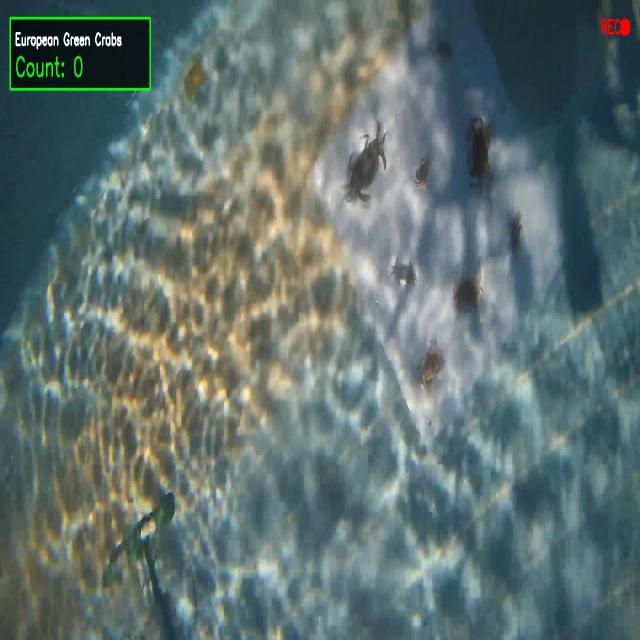European_Green_Crab: (336, 116, 402, 218), (389, 253, 419, 293), (508, 211, 527, 259)
